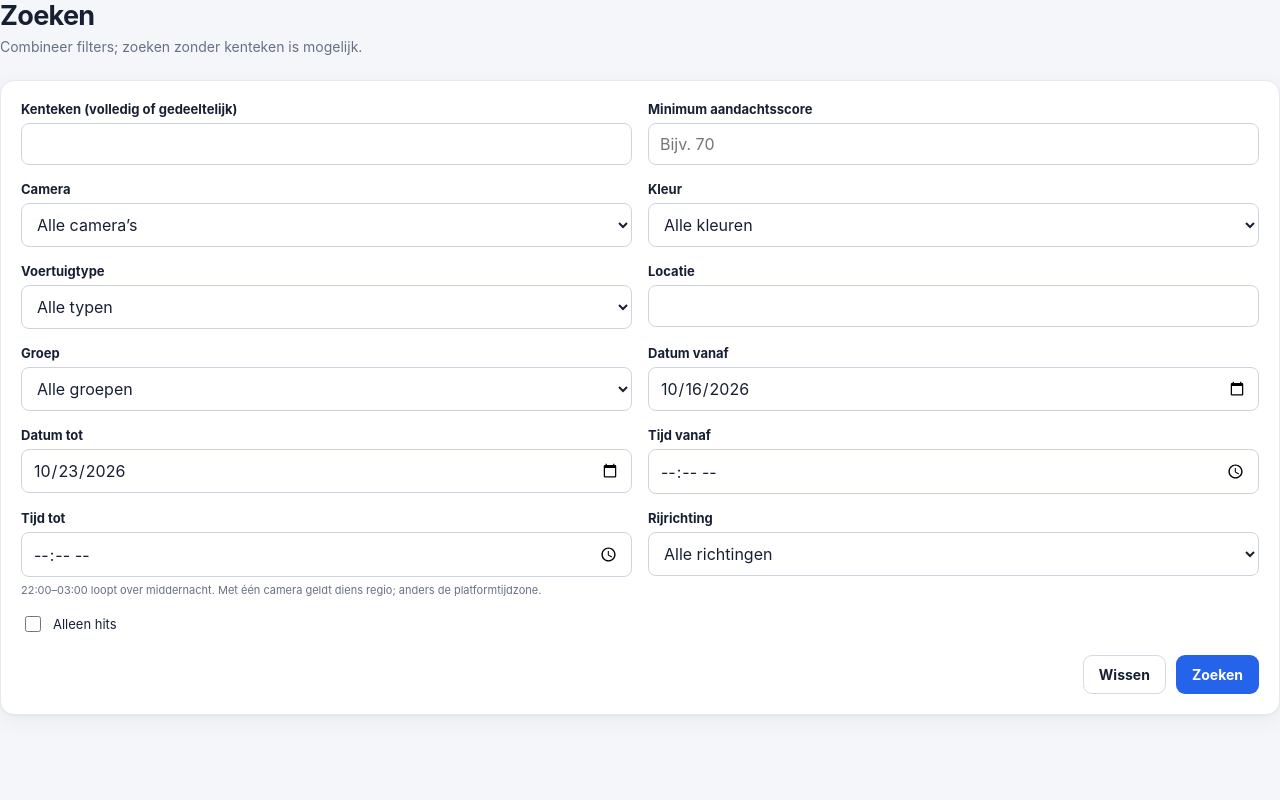
Test: direction across passage views › shows stored OUTGOING consistently
The image size is (1280, 800).
Select "Uitgaand" in the dropdown named "Alle richtingen" below "Rijrichting": (954, 554) [648,532,1259,576]
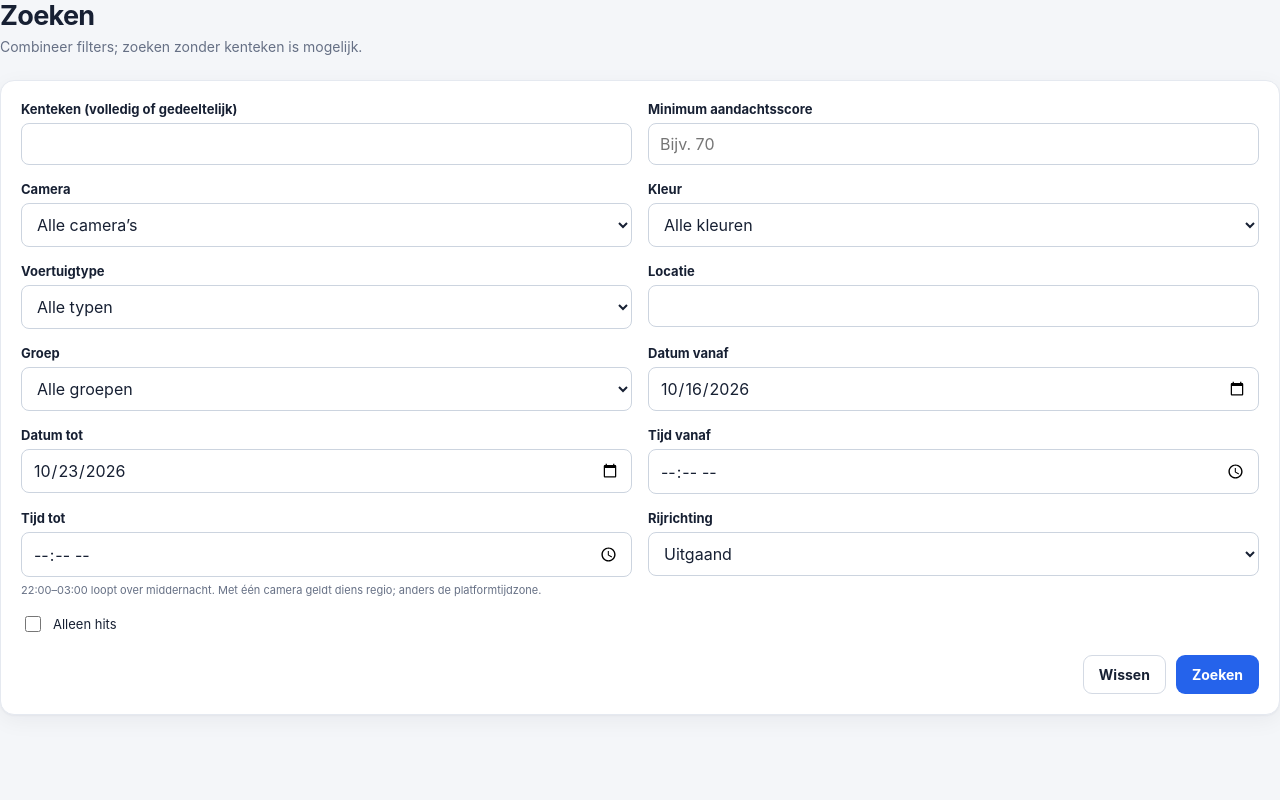
Click the button "Zoeken": (1217, 674) [1176,655,1259,694]
(page scrolled)
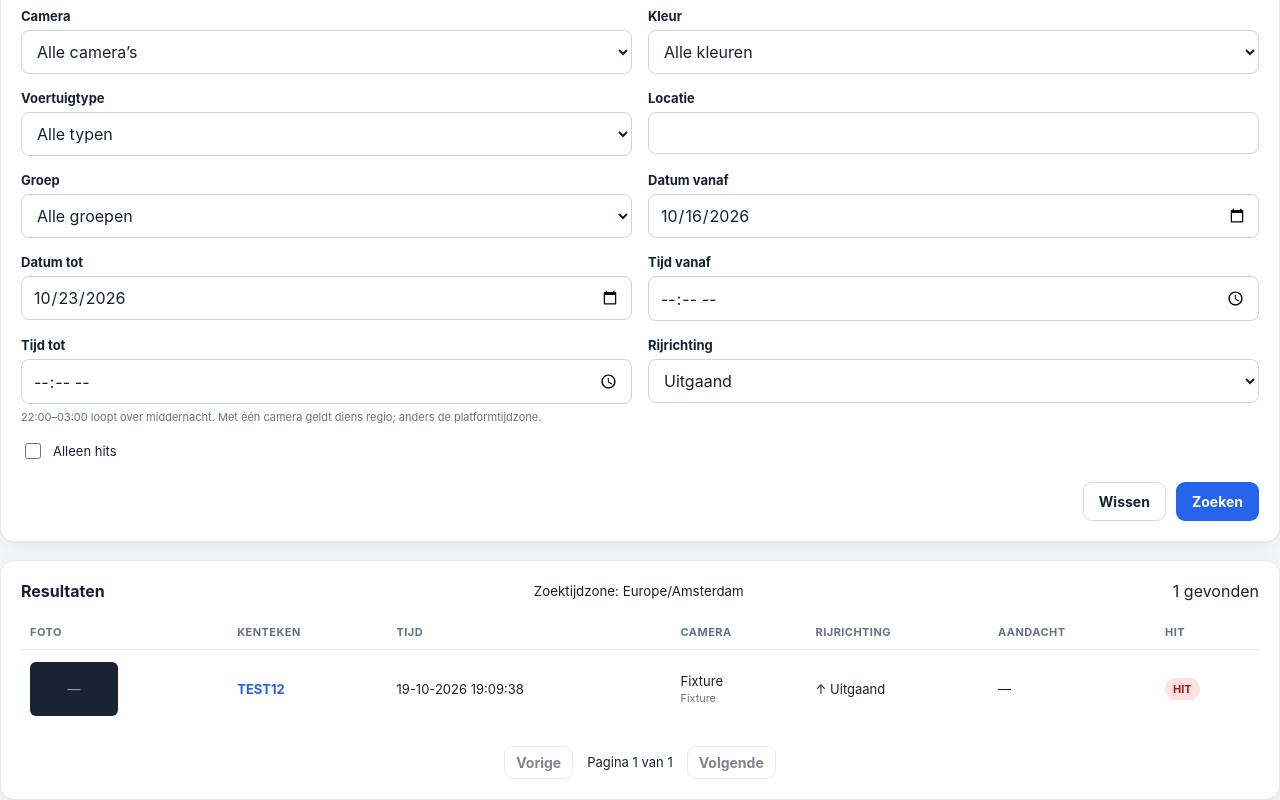
Now the text "TEST12" is shown, box [237,681,285,697]
Now the cell "↑ Uitgaand" is shown, box [807,650,989,728]
